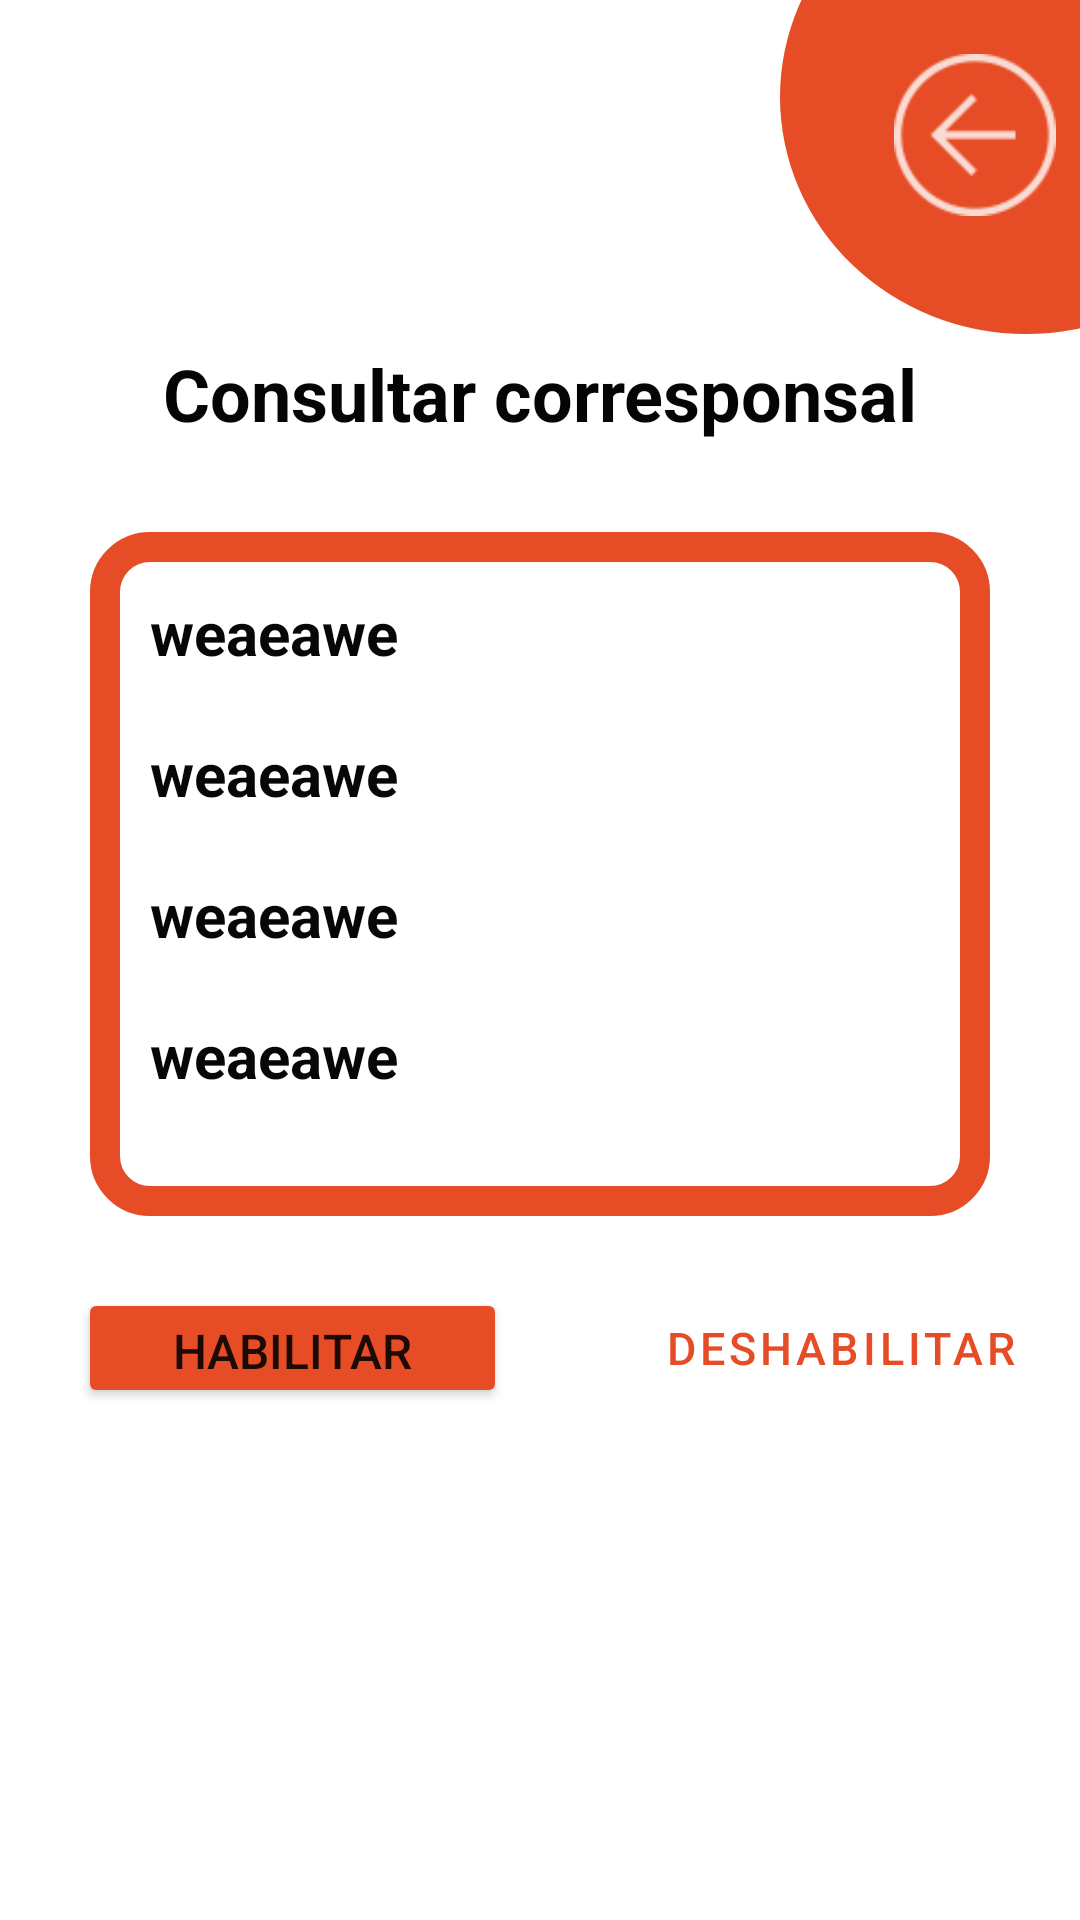

Screen size 1080w x 1920h. Icon name, then its center in pixels as (x,y):
arrowback: (975,135)
